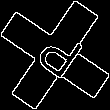P_SW: (25, 23, 85, 87)
